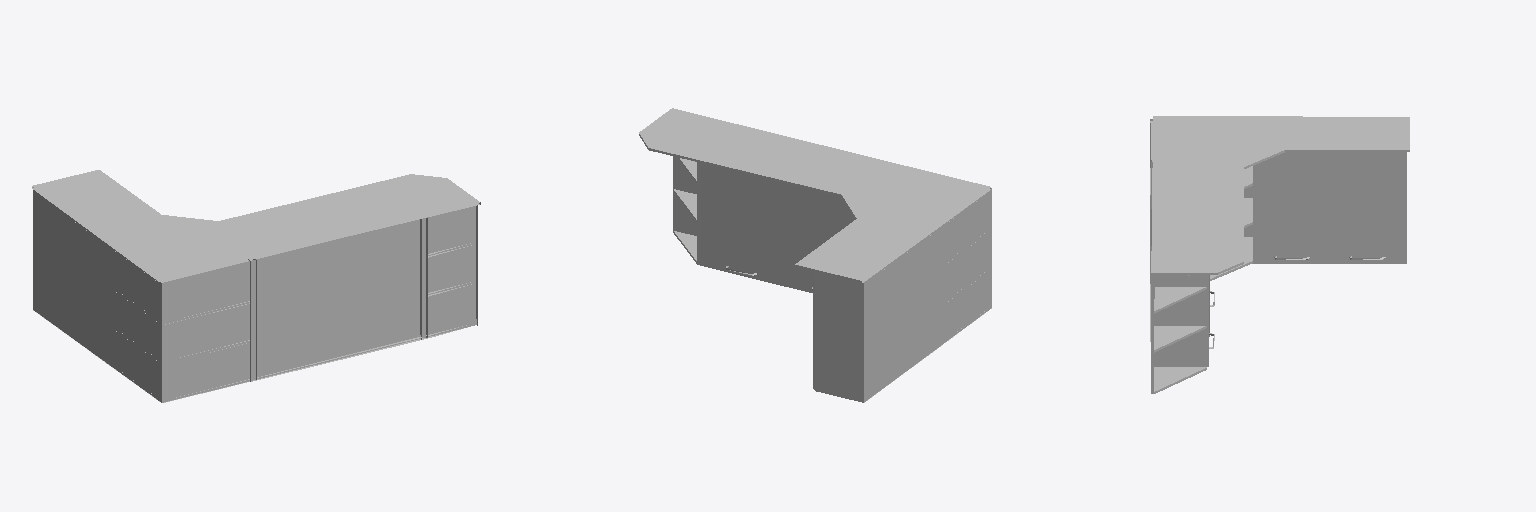
Rendered from Kitchen02_shelf.obj.
3 views of the same model, side by side, from view 1: azimuth 30°, elevation 25°; view 2: azimuth 150°, elevation 25°; view 3: azimuth 270°, elevation 25° (orthographic).
Parts seen in each view (by area): view 1: Kitchen_Shelf02_LOD0_Kitchen.002; view 2: Kitchen_Shelf02_LOD0_Kitchen.002; view 3: Kitchen_Shelf02_LOD0_Kitchen.002.
Boxes of the visible parts, x1,y1,x2,y2 form: Kitchen_Shelf02_LOD0_Kitchen.002: [32, 170, 480, 402]; Kitchen_Shelf02_LOD0_Kitchen.002: [639, 108, 991, 402]; Kitchen_Shelf02_LOD0_Kitchen.002: [1150, 116, 1409, 393].
Size of the model in its own units: 2.31 by 0.8484 by 1.62.